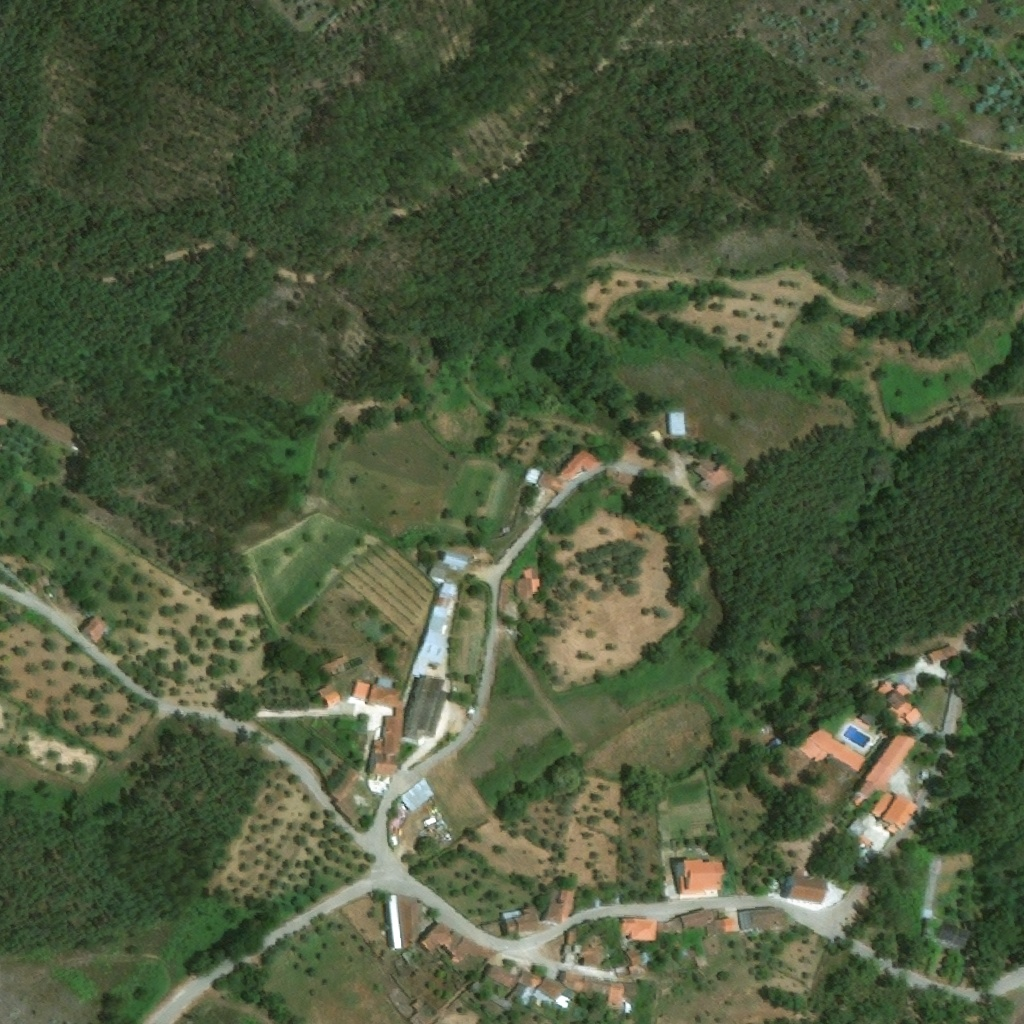0 no-damage: (848, 733, 915, 810), (402, 676, 448, 742), (795, 730, 866, 772), (876, 682, 921, 725), (397, 896, 423, 948), (558, 449, 602, 479), (684, 859, 722, 893), (470, 982, 516, 1010), (398, 778, 434, 812), (788, 873, 827, 903), (694, 462, 733, 492), (544, 889, 576, 924), (382, 701, 403, 754), (421, 921, 456, 952), (504, 905, 542, 933), (412, 643, 445, 675), (882, 796, 916, 827), (331, 766, 360, 802), (367, 677, 400, 708), (451, 937, 488, 964), (410, 998, 446, 1023), (373, 739, 398, 774), (515, 567, 540, 602), (82, 614, 109, 644), (388, 895, 403, 949), (622, 918, 656, 940), (749, 909, 786, 929), (939, 924, 971, 947), (869, 792, 893, 819), (538, 978, 565, 999), (537, 472, 565, 492), (487, 967, 514, 987), (563, 973, 590, 993), (423, 629, 447, 650), (925, 646, 952, 664), (442, 551, 469, 569), (580, 945, 603, 966), (666, 412, 686, 436), (682, 910, 708, 928), (351, 677, 370, 701), (319, 684, 340, 705), (428, 615, 449, 636), (428, 559, 448, 581), (519, 970, 543, 988), (533, 988, 557, 1006), (609, 983, 624, 1007), (438, 581, 458, 598), (517, 986, 533, 1007), (606, 472, 634, 484), (433, 595, 453, 610), (447, 934, 463, 952), (501, 909, 525, 921), (431, 606, 449, 622), (738, 911, 752, 931), (524, 468, 539, 485), (593, 981, 612, 994), (627, 950, 641, 966), (625, 981, 638, 998), (859, 712, 874, 726), (855, 834, 869, 849), (714, 919, 724, 934), (724, 919, 734, 933), (568, 927, 576, 944), (695, 955, 707, 966), (708, 921, 716, 936), (589, 980, 596, 992), (575, 944, 582, 953), (565, 945, 570, 953)
